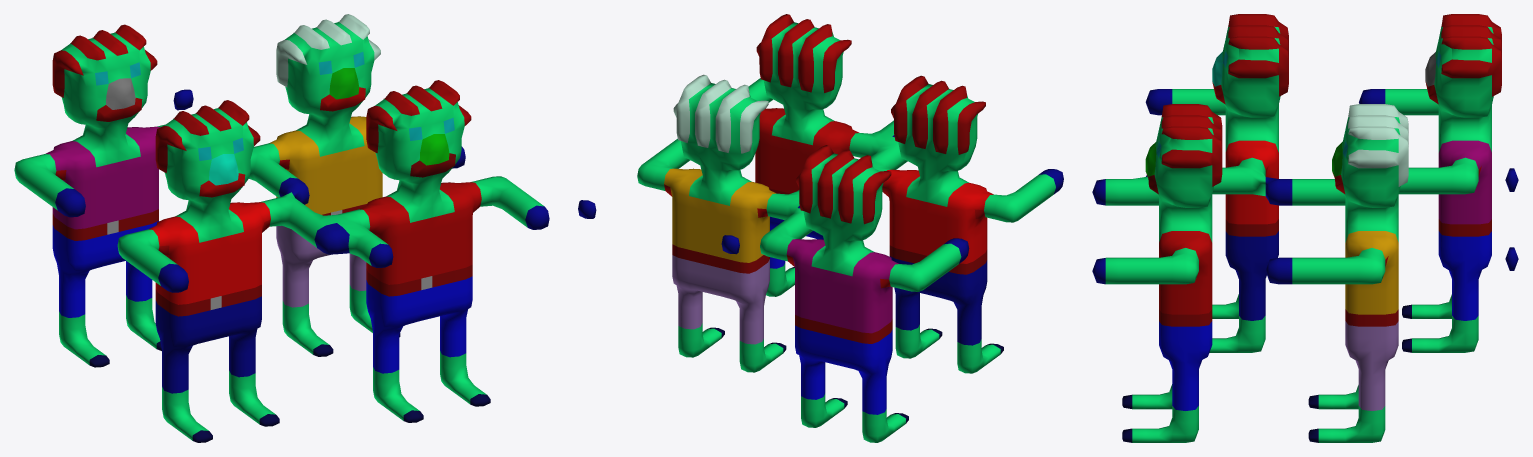
3 views of the same model, side by side, from view 1: azimuth 30°, elevation 25°; view 2: azimuth 150°, elevation 25°; view 3: azimuth 270°, elevation 25° (orthographic). The views are drawn at different scales.
Bounding box in the file's own units: 1.6 × 1.29 × 1.6.
